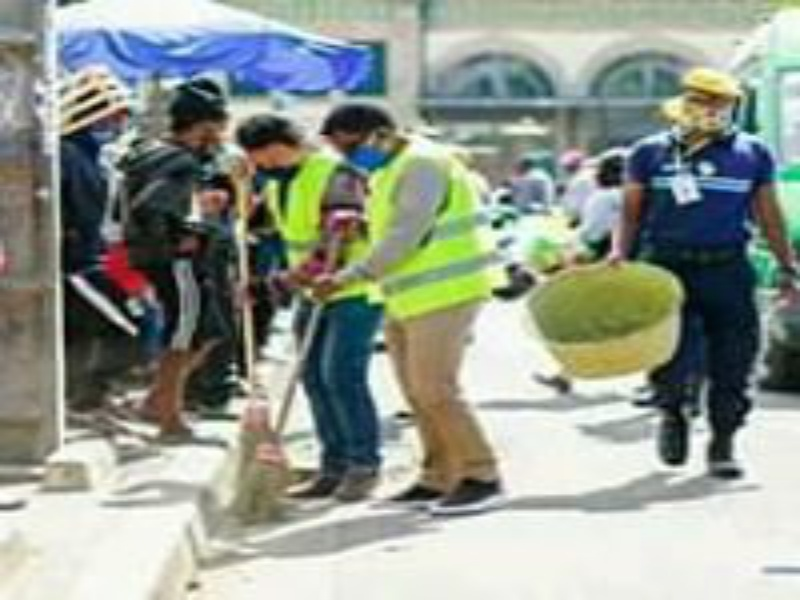ManaoArotava: (314, 98, 420, 189)
